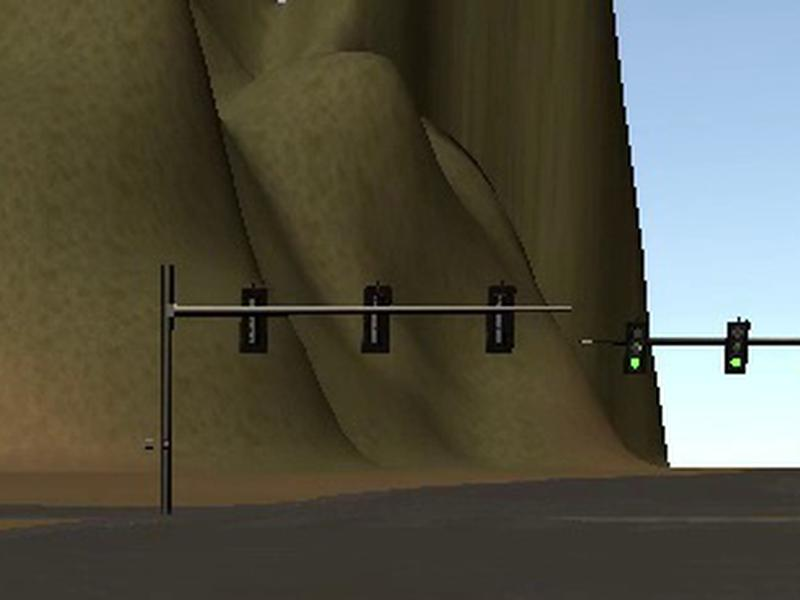Green: (725, 319, 752, 374), (622, 320, 647, 374)
